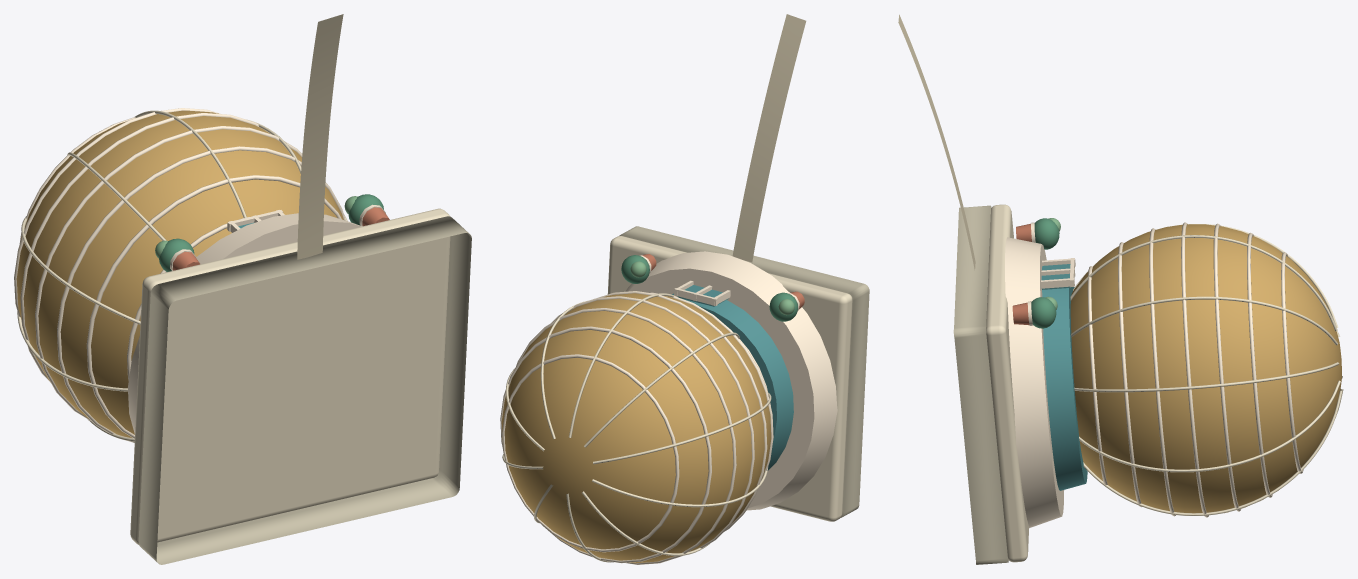
Rendered from goldenBall.glb.
3 views of the same model, side by side, from view 1: azimuth 30°, elevation 25°; view 2: azimuth 150°, elevation 25°; view 3: azimuth 270°, elevation 25° (orthographic). The views are drawn at different scales.
Parts seen in each view (by area): view 1: goldenBall (×7); view 2: goldenBall (×7); view 3: goldenBall (×8).
Boxes of the visible parts, x1,y1,x2,y2 form: goldenBall (×7): (14,14,471,564); goldenBall (×7): (500,14,869,564); goldenBall (×8): (898,14,1343,564).
Size of the model in its own units: 0.3153 by 0.5617 by 0.4652.
